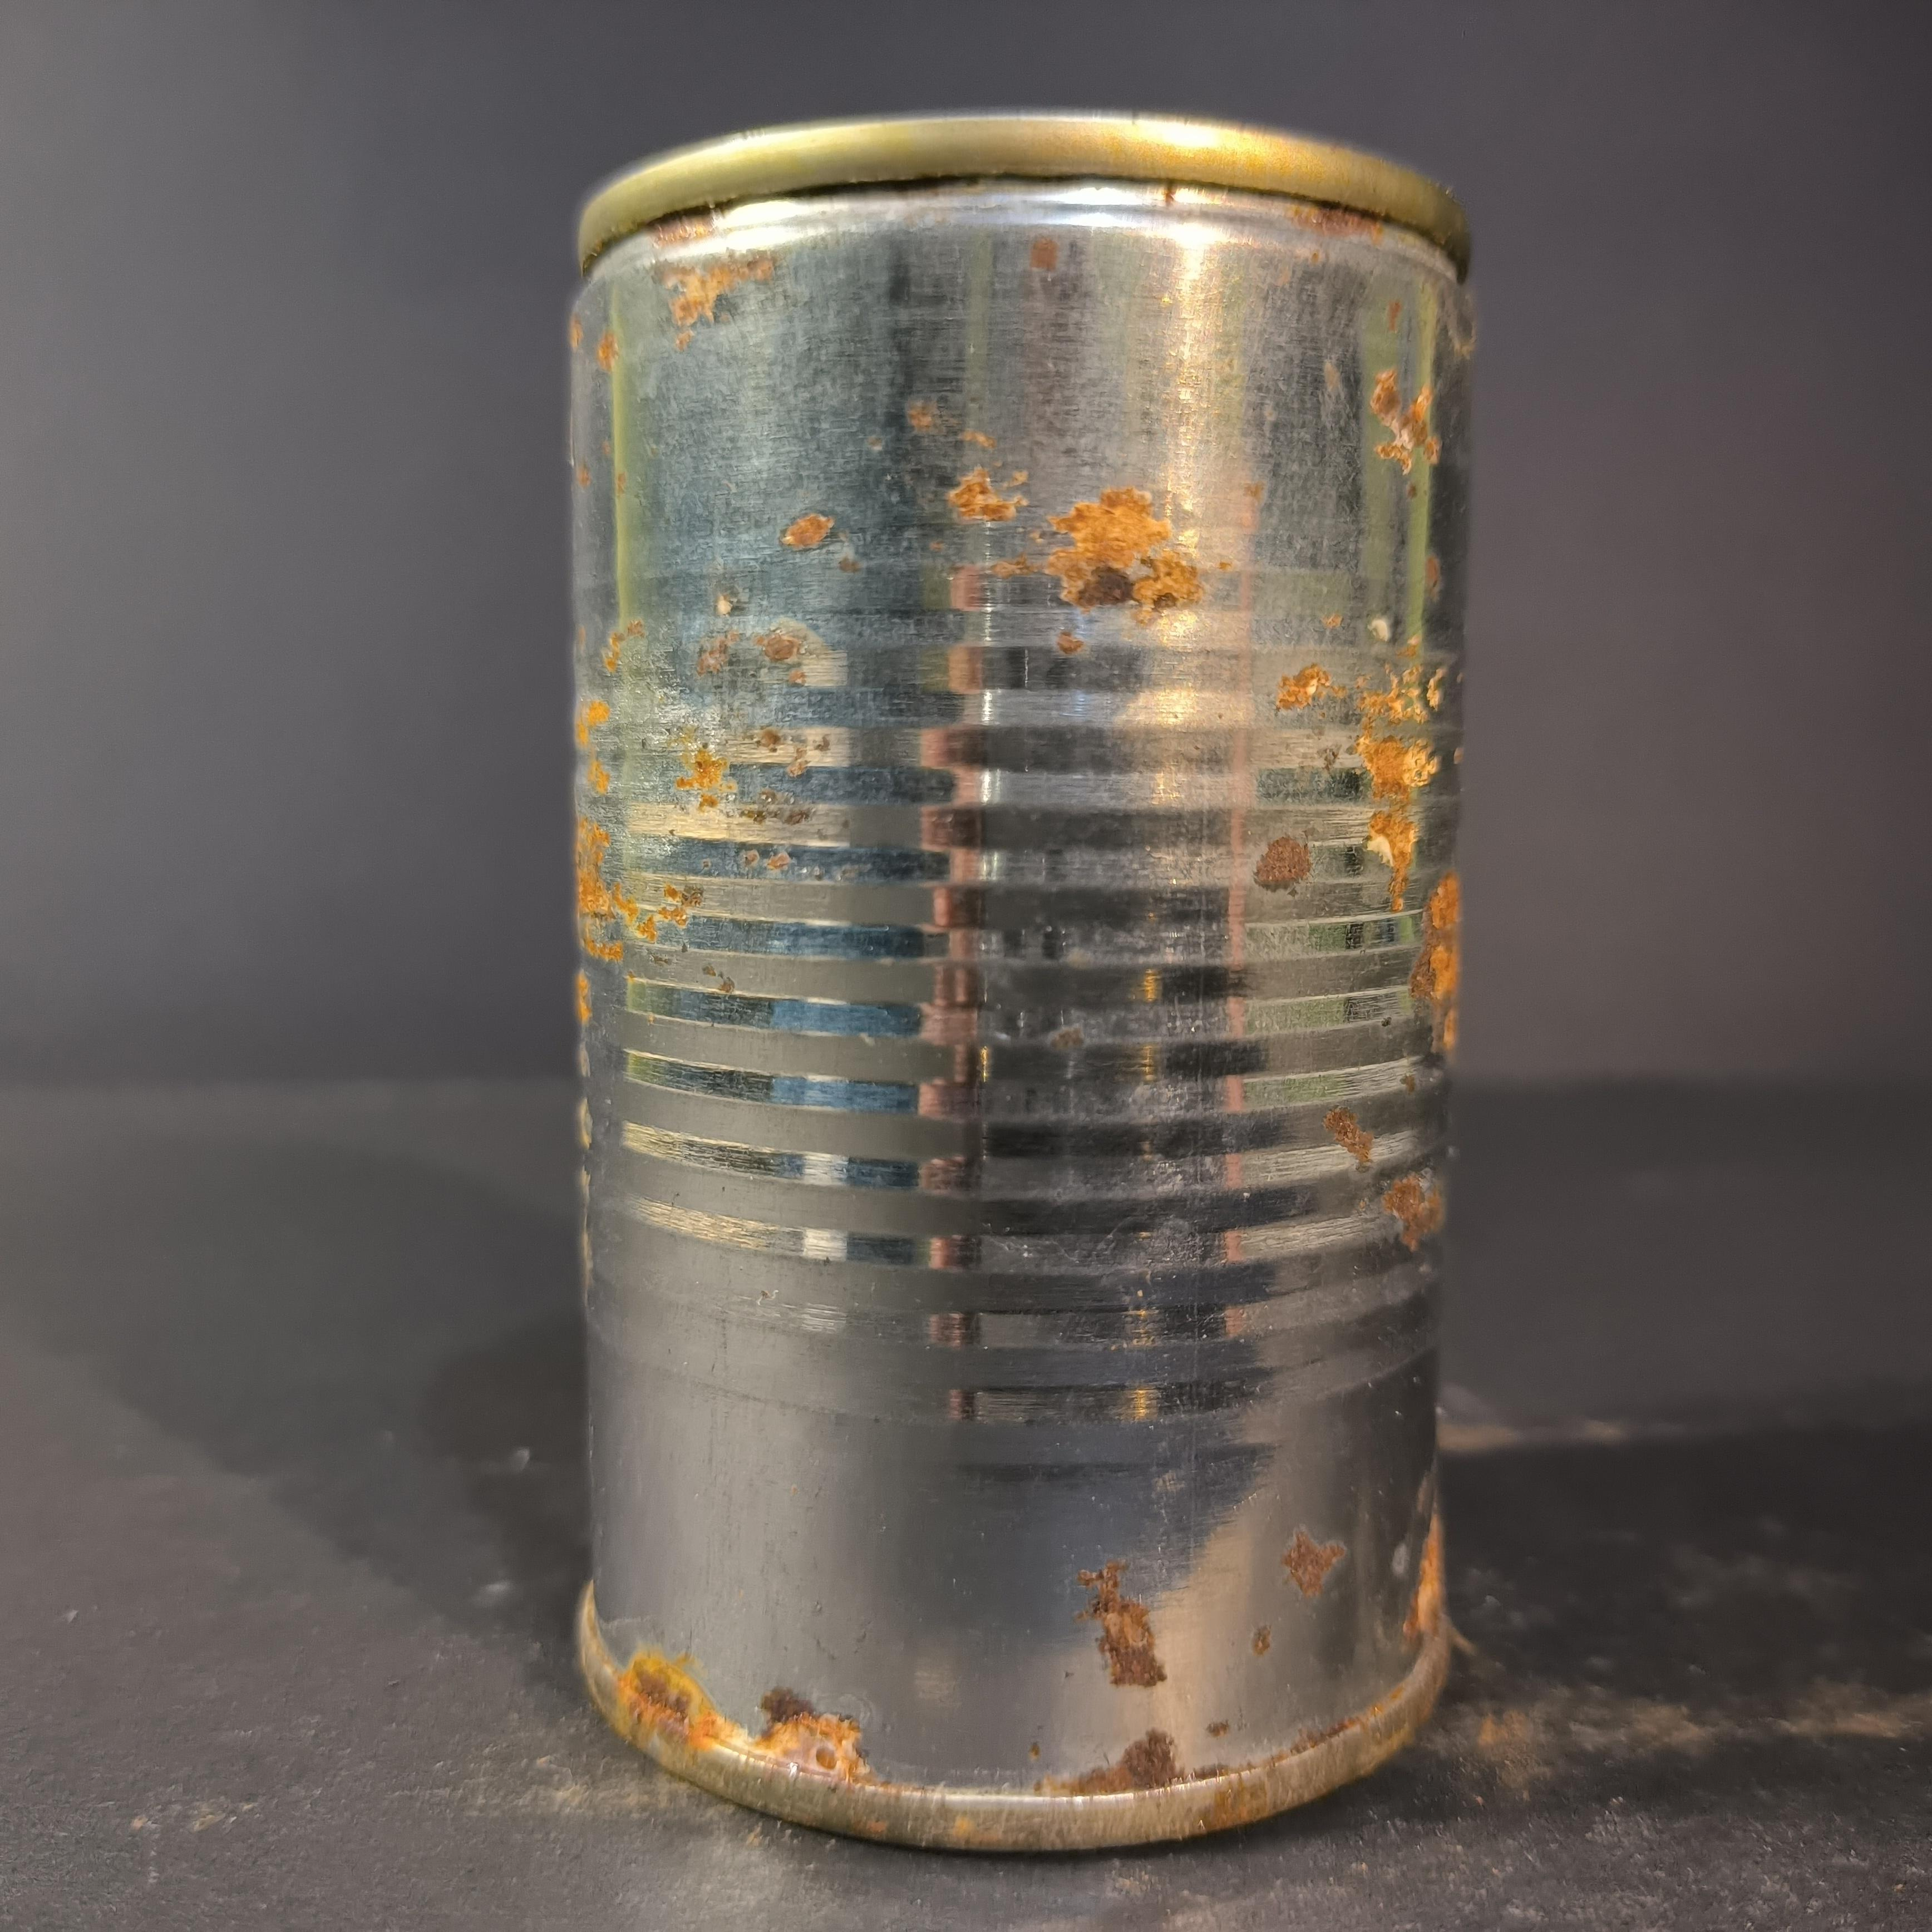Rusted: (543, 78, 1507, 1900)
